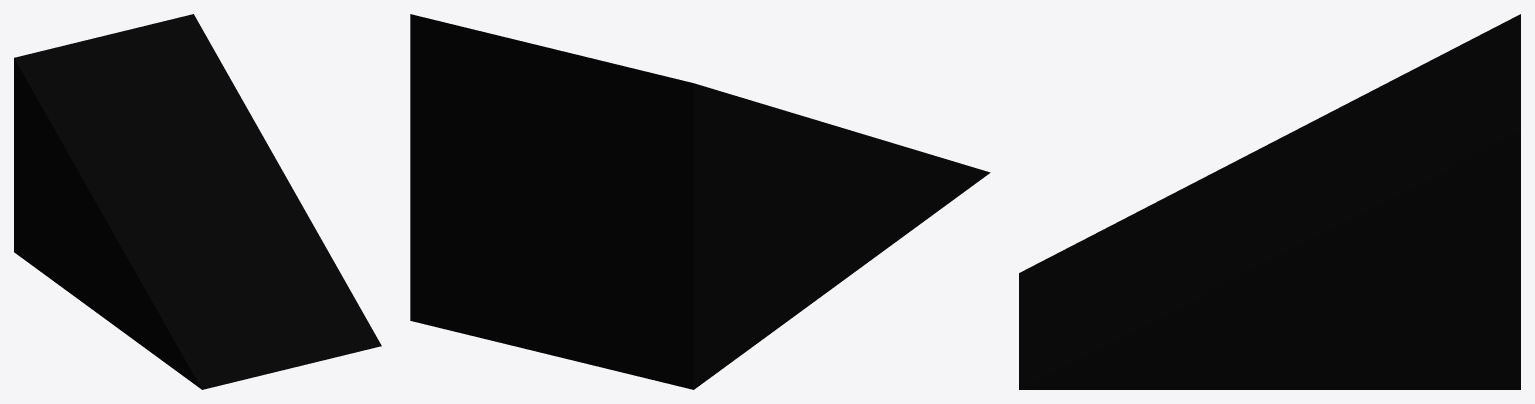
The model's file is BaseRamp.008.glb.
3 renders of one model, left to right at view 1: azimuth 30°, elevation 25°; view 2: azimuth 150°, elevation 25°; view 3: azimuth 270°, elevation 25°, orthographic. The views are drawn at different scales.
Visible parts, largest first — view 1: BaseRamp.008; view 2: BaseRamp.008; view 3: BaseRamp.008.
Boxes of the visible parts, box(x1,y1,x2,y2) form: BaseRamp.008: box(14, 14, 381, 389); BaseRamp.008: box(410, 14, 990, 389); BaseRamp.008: box(1019, 14, 1520, 389).
Size of what is drawn, in the model's own units: 1.85 by 1.91 by 3.35.
1 material, 1 textured.
